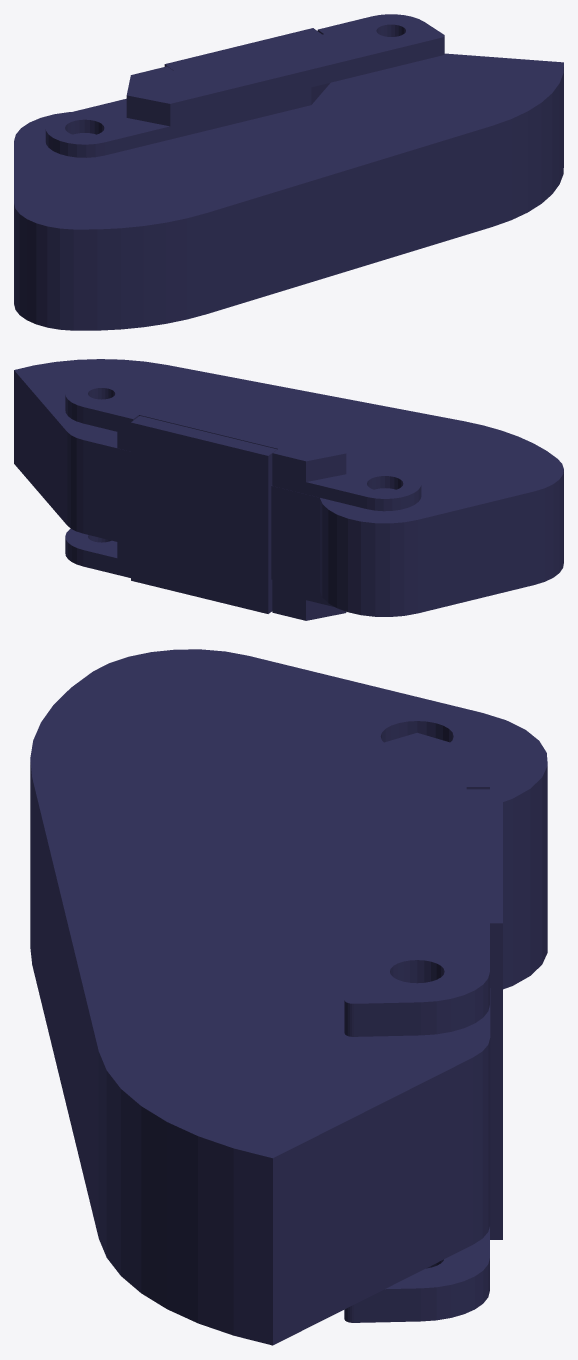
3 views of the same model, one above another, from view 1: azimuth 30°, elevation 25°; view 2: azimuth 150°, elevation 25°; view 3: azimuth 270°, elevation 25° (orthographic). The views are drawn at different scales.
Parts seen in each view (by area): view 1: link_1; view 2: link_1; view 3: link_1.
Part boxes in pixels (x1=…): link_1: x1=14, y1=14, x2=563, y2=330; link_1: x1=14, y1=359, x2=563, y2=620; link_1: x1=30, y1=649, x2=547, y2=1345.
Size of the model in its own units: 0.1051 by 0.0452 by 0.0307.
